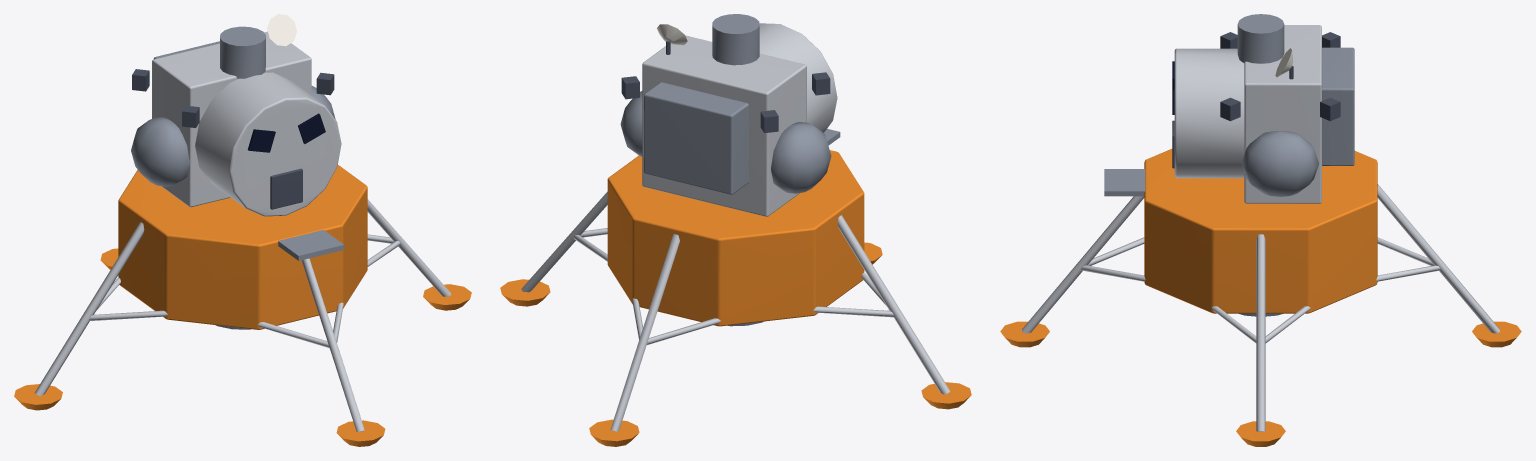
The model's file is Ship_LM.fbx.
The picture shows the model from 3 angles, left to right: view 1: azimuth 30°, elevation 25°; view 2: azimuth 150°, elevation 25°; view 3: azimuth 270°, elevation 25°; orthographic projection. The views are drawn at different scales.
Parts seen in each view (by area): view 1: Ship_LM.Descent, Ship_LM.Cabin, Ship_LM.Mid, Ship_LM.Legs, Ship_LM.Tank0, Ship_LM.Pads, Ship_LM.DockTunnel, Ship_LM.Porch, Ship_LM.Hatch, Ship_LM.Jets, Ship_LM.Dish, Ship_LM.Window0 (+1 smaller); view 2: Ship_LM.Descent, Ship_LM.Mid, Ship_LM.AftBay, Ship_LM.Legs, Ship_LM.Tank0, Ship_LM.Cabin, Ship_LM.Pads, Ship_LM.DockTunnel, Ship_LM.Jets, Ship_LM.Tank1, Ship_LM.Dish; view 3: Ship_LM.Descent, Ship_LM.Cabin, Ship_LM.Mid, Ship_LM.Legs, Ship_LM.Tank1, Ship_LM.AftBay, Ship_LM.Pads, Ship_LM.DockTunnel, Ship_LM.Jets, Ship_LM.Porch.
Boxes of the visible parts, left/top/right/bottom form: Ship_LM.Descent: left=118, top=164, right=367, bottom=329; Ship_LM.Cabin: left=195, top=72, right=341, bottom=216; Ship_LM.Mid: left=152, top=31, right=311, bottom=207; Ship_LM.Legs: left=35, top=199, right=451, bottom=432; Ship_LM.Tank0: left=131, top=117, right=189, bottom=186; Ship_LM.Pads: left=14, top=248, right=471, bottom=446; Ship_LM.DockTunnel: left=220, top=26, right=265, bottom=78; Ship_LM.Porch: left=278, top=230, right=344, bottom=260; Ship_LM.Hatch: left=270, top=168, right=302, bottom=209; Ship_LM.Jets: left=132, top=69, right=334, bottom=127; Ship_LM.Dish: left=267, top=14, right=296, bottom=46; Ship_LM.Window0: left=247, top=129, right=275, bottom=152; Ship_LM.Descent: left=607, top=150, right=864, bottom=326; Ship_LM.Mid: left=642, top=35, right=806, bottom=216; Ship_LM.AftBay: left=644, top=82, right=748, bottom=194; Ship_LM.Legs: left=521, top=191, right=950, bottom=431; Ship_LM.Tank0: left=771, top=122, right=831, bottom=193; Ship_LM.Cabin: left=759, top=23, right=837, bottom=132; Ship_LM.Pads: left=500, top=242, right=971, bottom=446; Ship_LM.DockTunnel: left=712, top=14, right=759, bottom=65; Ship_LM.Jets: left=621, top=72, right=830, bottom=133; Ship_LM.Tank1: left=620, top=91, right=642, bottom=156; Ship_LM.Dish: left=657, top=24, right=687, bottom=54; Ship_LM.Descent: left=1144, top=149, right=1377, bottom=313; Ship_LM.Cabin: left=1174, top=48, right=1244, bottom=178; Ship_LM.Mid: left=1244, top=25, right=1321, bottom=203; Ship_LM.Legs: left=1022, top=184, right=1499, bottom=431; Ship_LM.Tank1: left=1241, top=131, right=1318, bottom=196; Ship_LM.AftBay: left=1322, top=47, right=1354, bottom=165; Ship_LM.Pads: left=1000, top=321, right=1521, bottom=446; Ship_LM.DockTunnel: left=1237, top=14, right=1284, bottom=63; Ship_LM.Jets: left=1220, top=32, right=1340, bottom=121; Ship_LM.Porch: left=1104, top=169, right=1145, bottom=196.
Size of the model in its own units: 9.36 by 6.3 by 9.4.
Materials: 1 (1 with a texture image).
